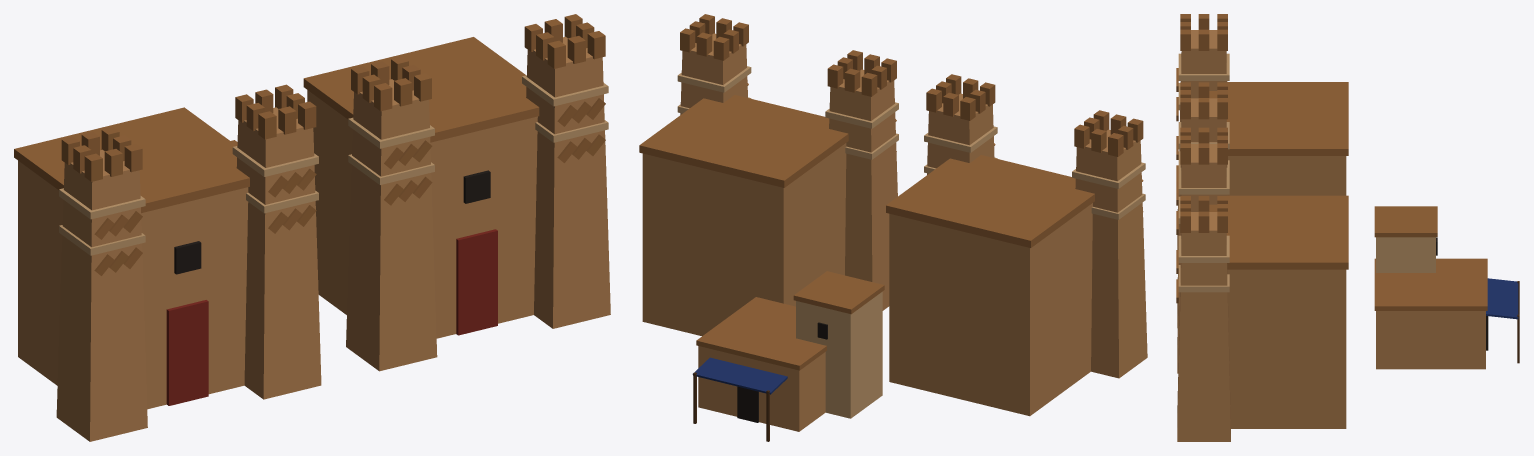
The model's file is fennec_row_broken.glb.
3 renders of one model, left to right at view 1: azimuth 30°, elevation 25°; view 2: azimuth 150°, elevation 25°; view 3: azimuth 270°, elevation 25°, orthographic. The views are drawn at different scales.
Visible parts, largest first — view 1: fennec_row_piece5, fennec_row_piece4, fennec_row_piece7, fennec_row_piece0, fennec_row_piece11, fennec_row_piece3, fennec_row_piece9, fennec_row_piece8, fennec_row_piece1, fennec_row_piece2, fennec_row_piece6, fennec_row_piece13; view 2: fennec_row_piece9, fennec_row_piece8, fennec_row_piece11, fennec_row_piece1, fennec_row_piece12, fennec_row_piece6, fennec_row_piece3, fennec_row_piece5, fennec_row_piece0, fennec_row_piece13, fennec_row_piece4, fennec_row_piece7 (+2 smaller); view 3: fennec_row_piece5, fennec_row_piece6, fennec_row_piece0, fennec_row_piece9, fennec_row_piece11, fennec_row_piece12, fennec_row_piece1, fennec_row_piece7, fennec_row_piece13, fennec_row_piece3, fennec_row_piece2.
Part boxes in pixels (box(x1,y1,x2,y2)): fennec_row_piece5: box(431, 14, 610, 333); fennec_row_piece4: box(56, 181, 321, 441); fennec_row_piece7: box(351, 65, 466, 371); fennec_row_piece0: box(141, 84, 319, 312); fennec_row_piece11: box(59, 127, 199, 334); fennec_row_piece3: box(318, 70, 407, 350); fennec_row_piece9: box(303, 37, 482, 209); fennec_row_piece8: box(18, 181, 62, 385); fennec_row_piece1: box(14, 122, 121, 230); fennec_row_piece2: box(348, 66, 388, 126); fennec_row_piece6: box(236, 144, 338, 269); fennec_row_piece13: box(100, 112, 166, 150); fennec_row_piece9: box(639, 60, 857, 260); fennec_row_piece8: box(864, 212, 1070, 416); fennec_row_piece11: box(1003, 110, 1145, 309); fennec_row_piece1: box(729, 212, 1068, 368); fennec_row_piece12: box(692, 326, 859, 441); fennec_row_piece6: box(655, 250, 853, 337); fennec_row_piece3: box(801, 58, 898, 289); fennec_row_piece5: box(642, 14, 805, 328); fennec_row_piece0: box(886, 74, 1009, 280); fennec_row_piece13: box(844, 199, 1005, 395); fennec_row_piece4: box(908, 162, 1147, 392); fennec_row_piece7: box(769, 50, 898, 310); fennec_row_piece5: box(1176, 196, 1346, 441); fennec_row_piece6: box(1374, 218, 1480, 369); fennec_row_piece0: box(1176, 82, 1348, 264); fennec_row_piece9: box(1203, 135, 1348, 319); fennec_row_piece11: box(1176, 14, 1311, 121); fennec_row_piece12: box(1436, 258, 1519, 369); fennec_row_piece1: box(1276, 82, 1464, 296); fennec_row_piece7: box(1176, 135, 1259, 373); fennec_row_piece13: box(1279, 103, 1399, 262); fennec_row_piece3: box(1180, 127, 1247, 203); fennec_row_piece2: box(1183, 127, 1375, 270).
Bounding box in the file's own units: 6.3 × 3.22 × 4.47.
